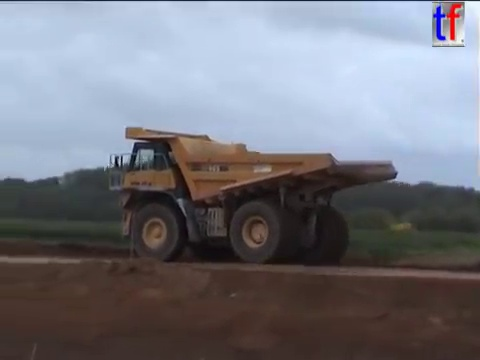truck: (105, 124, 401, 267)
